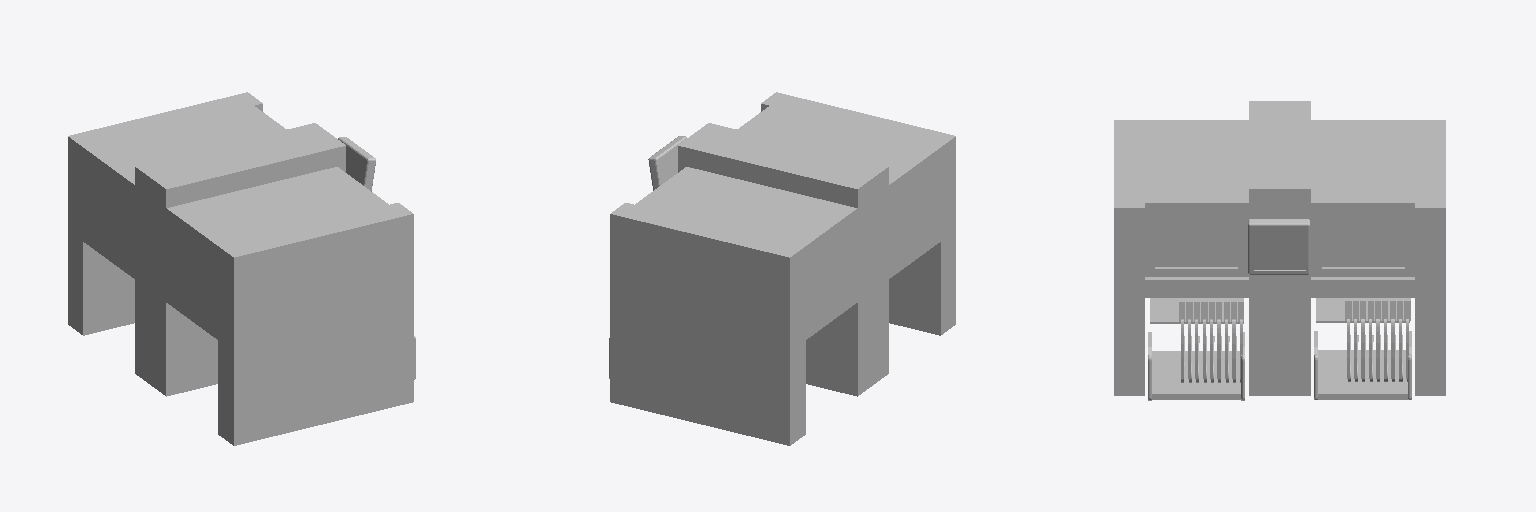
The model's file is 贴片机.obj.
3 views of the same model, side by side, from view 1: azimuth 30°, elevation 25°; view 2: azimuth 150°, elevation 25°; view 3: azimuth 270°, elevation 25° (orthographic).
Parts seen in each view (by area): view 1: ???_9, ???_1, ???_3_2, ???_4_2, ???_2_1, ???_5_3; view 2: ???_2_1, ???_1, ???_4_2, ???_3_2, ???_9, ???_5_3; view 3: ???_1, ???_4_2, ???_3_2, ???_2_1, ???_9, ???_6_2, ???_5_2, ???_8, ???_5, ???_6_3, ???_5_3, ???_6 (+3 smaller).
Part boxes in pixels (x1,y1,x2,y2): ???_9: (218,203,413,445); ???_1: (135,123,345,396); ???_3_2: (166,167,388,339); ???_4_2: (83,106,286,278); ???_2_1: (68,92,262,335); ???_5_3: (338,137,375,191); ???_2_1: (610,203,805,445); ???_1: (678,123,888,396); ???_4_2: (635,167,857,339); ???_3_2: (737,106,940,278); ???_9: (761,92,955,335); ???_5_3: (648,136,686,190); ???_1: (1249,101,1310,395); ???_4_2: (1311,120,1414,297); ???_3_2: (1145,120,1248,297); ???_2_1: (1415,120,1445,395); ???_9: (1114,120,1144,395); ???_6_2: (1322,213,1404,268); ???_5_2: (1155,213,1237,268); ???_8: (1318,350,1407,399); ???_5: (1152,351,1240,399); ???_6_3: (1254,228,1305,270); ???_5_3: (1248,219,1309,274); ???_6: (1150,298,1243,323).
Bounding box in the file's own units: 234 × 220 × 320.